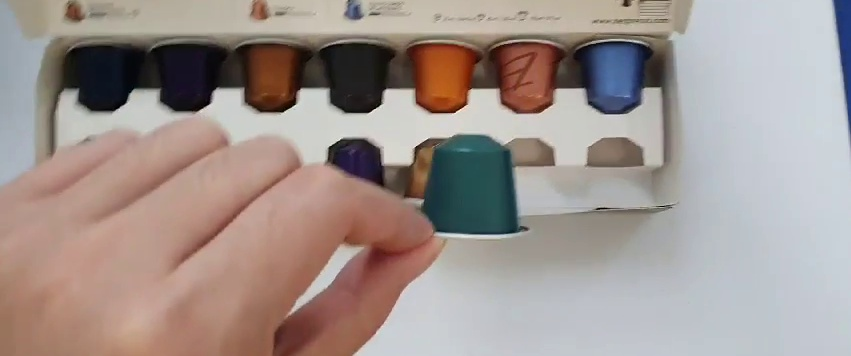capsule_13: (410, 130, 530, 244)
